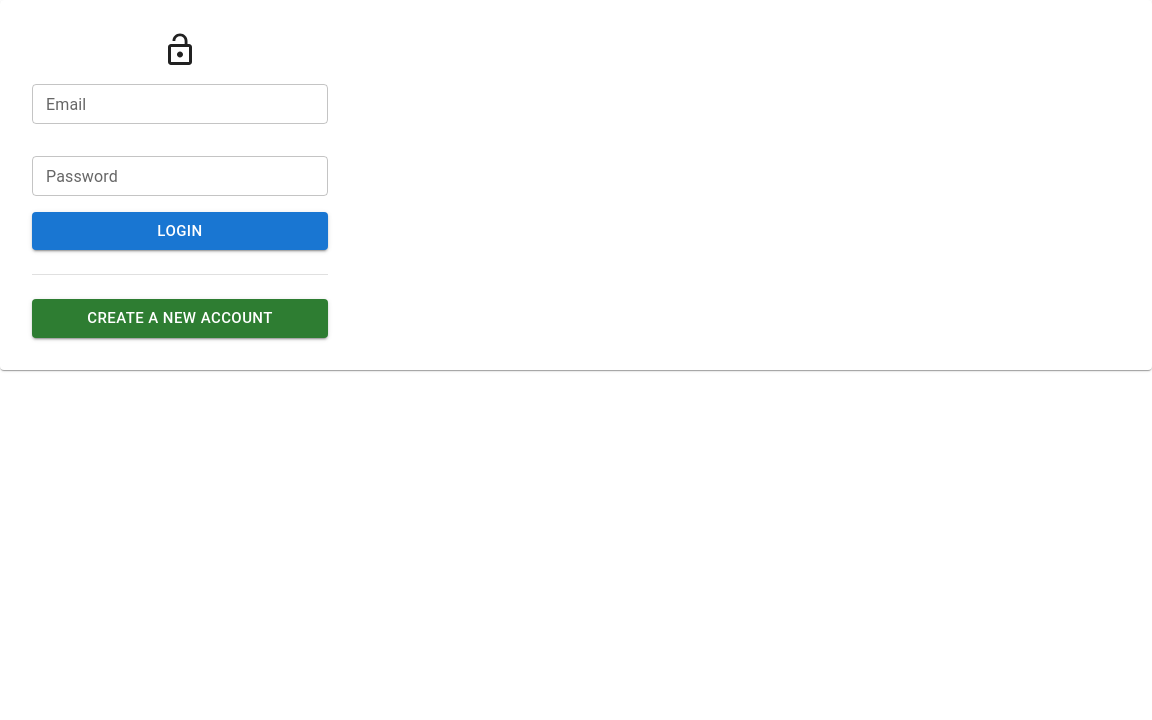
Test case: <AuthForm> › renders sign-up form when toggle form <button> clicked
Click the button "Create a new account": (180, 318) [32,299,328,338]
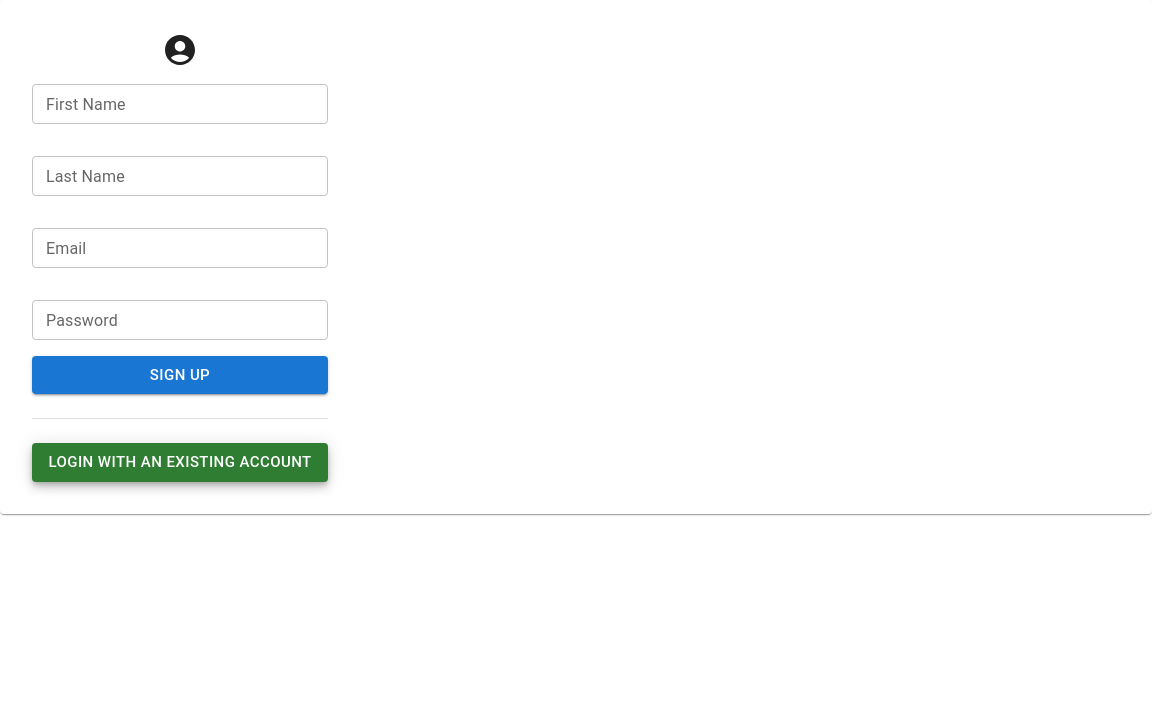
expect the field labelled "First Name" is shown: met, box [32,84,328,124]
expect the field labelled "Last Name" is shown: met, box [32,156,328,196]
expect the button "Sign Up" is shown: met, box [32,356,328,394]
